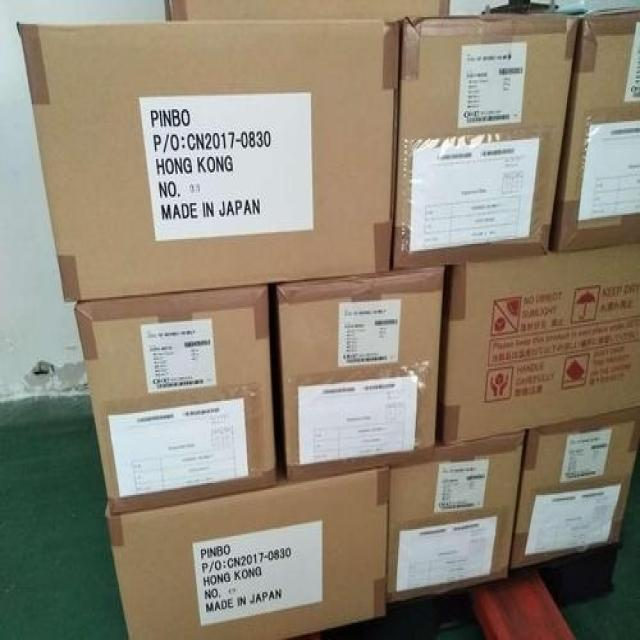box: (17, 17, 399, 304), (106, 466, 389, 640), (393, 12, 580, 268), (76, 285, 276, 514), (436, 244, 640, 444), (276, 265, 444, 483), (387, 430, 525, 604), (549, 7, 640, 251), (509, 406, 640, 570), (165, 0, 449, 19)
